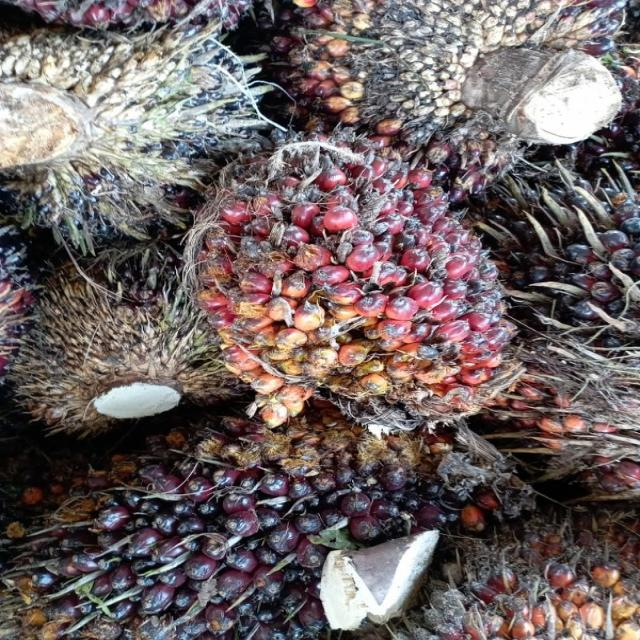fraksi 3: (2, 408, 501, 640), (184, 111, 530, 432)
